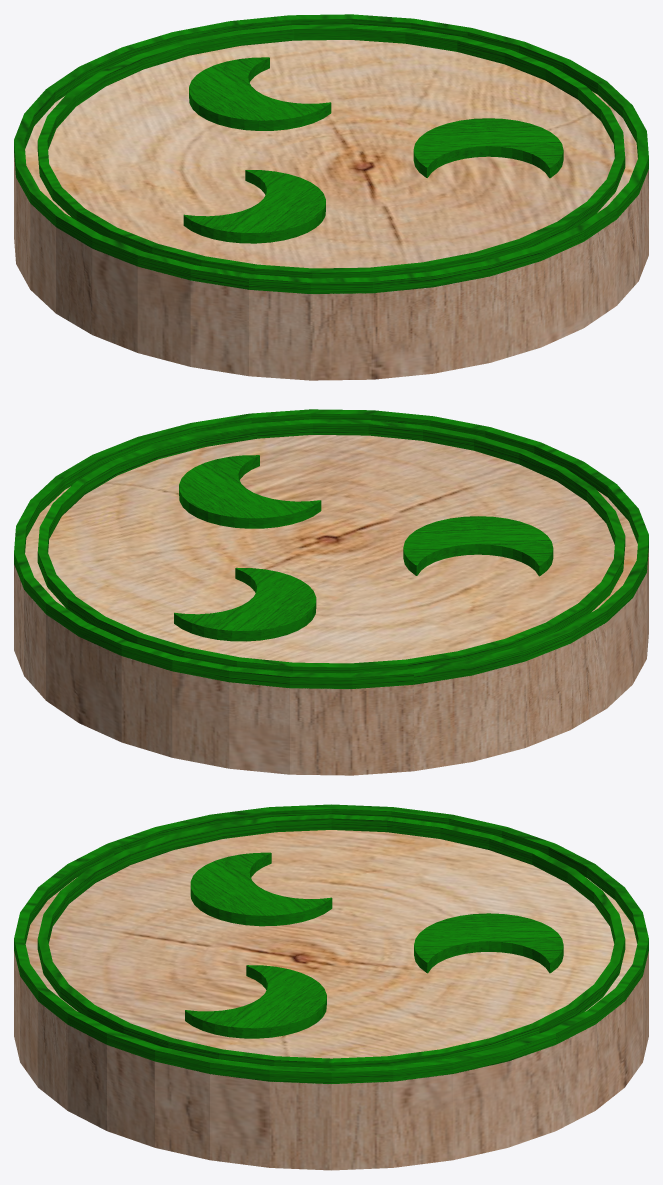
File: Mondstein3.fbx
The picture shows the model from 3 angles, top to bottom: view 1: azimuth 30°, elevation 25°; view 2: azimuth 150°, elevation 25°; view 3: azimuth 270°, elevation 25°; orthographic projection.
Visible parts, largest first — view 1: Mond3; view 2: Mond3; view 3: Mond3.
Part boxes in pixels (left/top/right/bottom): Mond3: left=14, top=14, right=648, bottom=380; Mond3: left=14, top=409, right=648, bottom=775; Mond3: left=14, top=804, right=648, bottom=1170.
Size of the model in its own units: 200 by 34 by 200.
